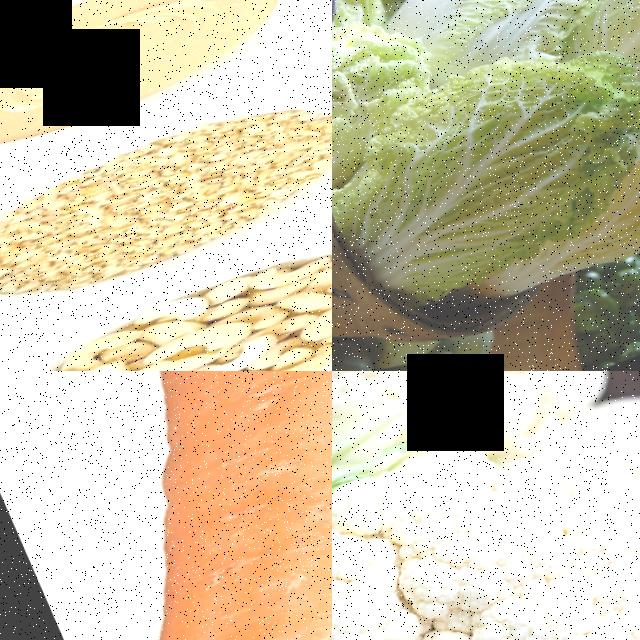cabbage: (332, 28, 640, 331), (376, 0, 620, 70)
carrot: (0, 371, 332, 640)
cashew: (122, 304, 261, 371), (237, 243, 332, 299), (52, 318, 145, 371), (120, 289, 209, 342), (236, 340, 332, 371), (293, 292, 332, 340)
cauliflower: (332, 371, 640, 640), (332, 371, 631, 525)
